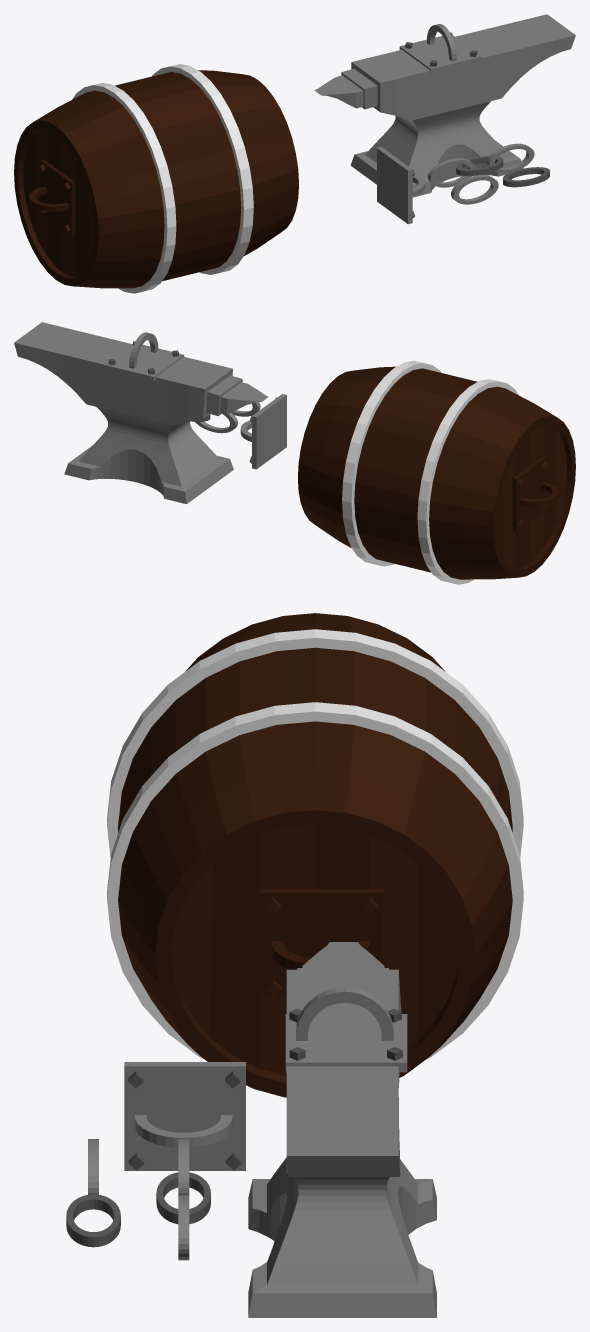
Rendered from chain.fbx.
3 renders of one model, top to bottom at view 1: azimuth 30°, elevation 25°; view 2: azimuth 150°, elevation 25°; view 3: azimuth 270°, elevation 25°, orthographic. The views are drawn at different scales.
Parts seen in each view (by area): view 1: Cylinder, RingHolder.001, RingHolder, Ring.004, Ring.001, Ring.003, Ring, Ring.002; view 2: Cylinder, RingHolder.001, RingHolder, Ring; view 3: Cylinder, RingHolder.001, RingHolder, Ring.001, Ring.002.
Part boxes in pixels (x1,y1,x2,y2): Cylinder: (14,64,298,293); RingHolder.001: (314,14,575,197); RingHolder: (377,147,424,224); Ring.004: (451,175,498,204); Ring.001: (503,167,549,187); Ring.003: (486,143,534,173); Ring: (427,158,475,187); Ring.002: (456,156,503,175); Cylinder: (298,360,575,584); RingHolder.001: (14,322,268,504); RingHolder: (240,394,286,469); Ring: (195,413,237,433); Cylinder: (107,613,523,1097); RingHolder.001: (248,942,436,1317); RingHolder: (124,1062,245,1170); Ring.001: (66,1194,120,1247); Ring.002: (156,1172,210,1224).
Size of the model in its own units: 4420 by 1528 by 1677.
